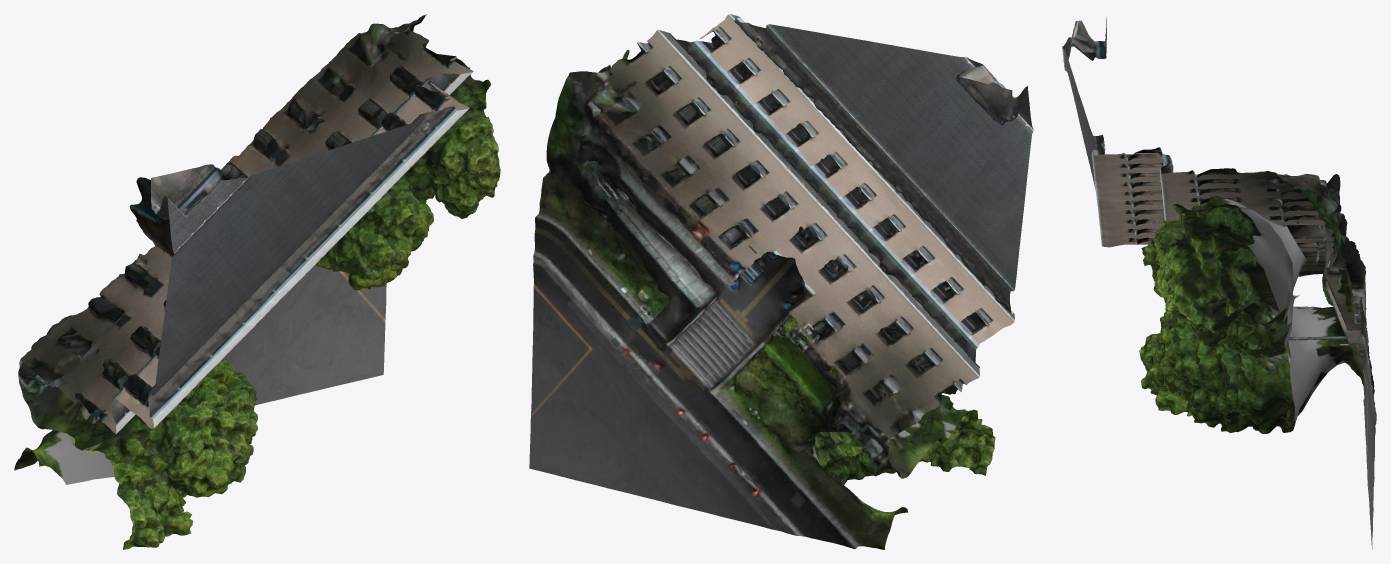
Rendered from Tile_+007_+010.fbx.
The picture shows the model from 3 angles, left to right: view 1: azimuth 30°, elevation 25°; view 2: azimuth 150°, elevation 25°; view 3: azimuth 270°, elevation 25°; orthographic projection. The views are drawn at different scales.
Parts seen in each view (by area): view 1: DefaultName; view 2: DefaultName; view 3: DefaultName.
Boxes of the visible parts, x1,y1,x2,y2 form: DefaultName: (14, 14, 500, 549); DefaultName: (529, 14, 1033, 549); DefaultName: (1062, 17, 1376, 548).
Bounding box in the file's own units: 22.54 × 22.54 × 17.59.
